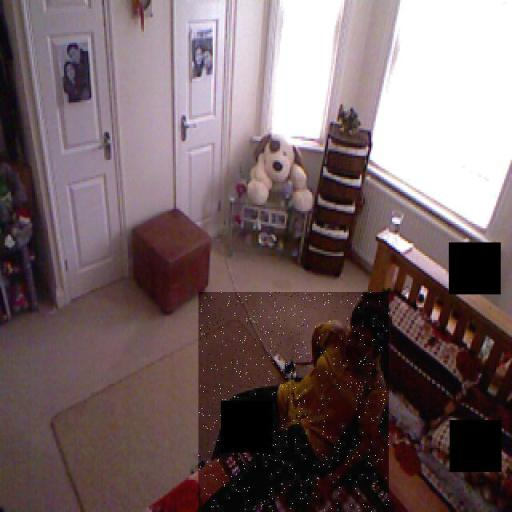Fall: (198, 292, 389, 512)
